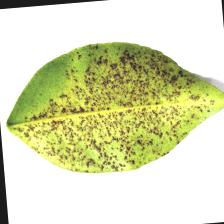canker: (60, 72, 188, 160)
